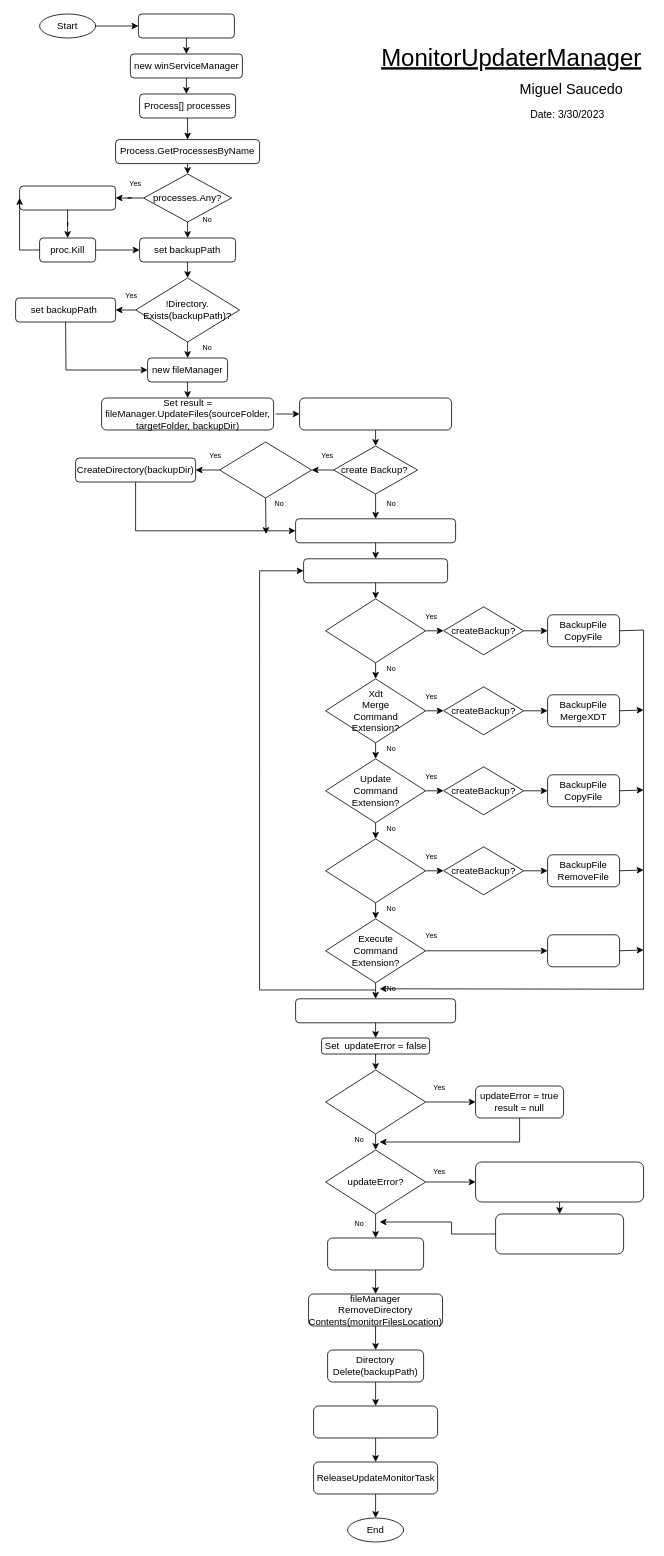
The diagram is 664 pixels wide and 1556 high, and some of its shapes have lost their labels. The centre of each missing label's shape, as x and y in pixels:
!Directory Exists(backupDir)?: the point at 265,469
!IsNullOrEmpty (result)?: the point at 375,1101
Add Command Extension?: the point at 375,630
createBackup = !string.IsNullOrEmpty(backupDir): the point at 375,413
Delete Command Extension?: the point at 375,870
Directory Delete(monitorFilesLocation): the point at 375,1421
Directory.EnumerateFiles ExecuteCommandExtensionEnd: the point at 375,1010
Directory.EnumerateFiles ExecuteCommandExtensionInitial: the point at 375,530
ExecuteBats: the point at 583,950
file in Directory.EnumerateFiles: the point at 375,570
fileManager RemoveDirectory Contents(backupPath): the point at 375,1253
fileManager. RemoveDirectoryContents (backupPath): the point at 559,1233
proc in processes: the point at 67,197
Set result = fileManager.UpdateFiles(backupPath, installationFolder): the point at 559,1181
UpdateMonitor: the point at 186,25
